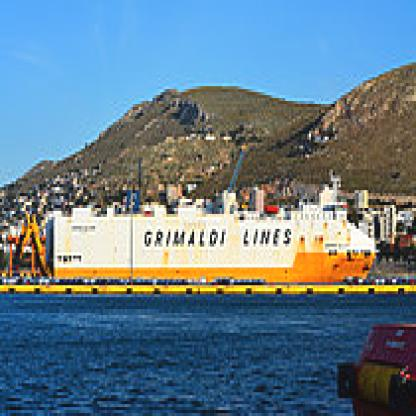Tanker: (36, 210, 373, 296)
